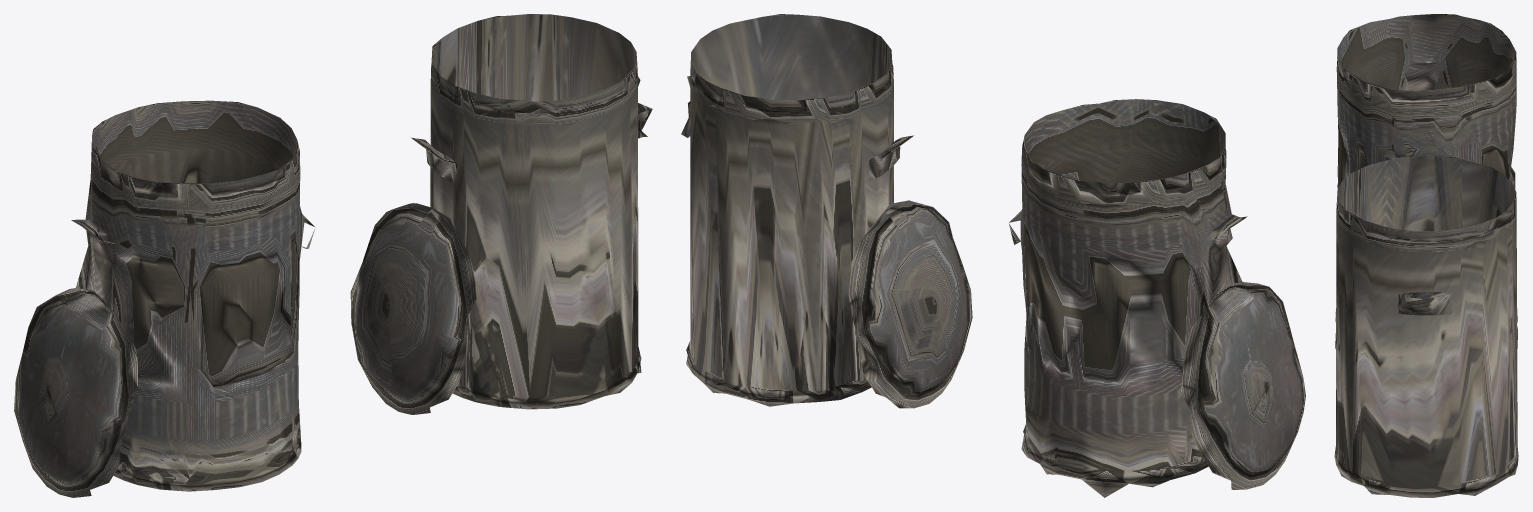
The model's file is metal_trash_can.glb.
The picture shows the model from 3 angles, left to right: view 1: azimuth 30°, elevation 25°; view 2: azimuth 150°, elevation 25°; view 3: azimuth 270°, elevation 25°; orthographic projection. The views are drawn at different scales.
Visible parts, largest first — view 1: metal_trash_can; view 2: metal_trash_can; view 3: metal_trash_can.
Part boxes in pixels (x1,y1,x2,y2): metal_trash_can: (14,14,652,497); metal_trash_can: (681,14,1305,497); metal_trash_can: (1334,14,1518,497).
Bounding box in the file's own units: 1.76 × 0.9062 × 0.5433.
1 material, 1 textured.
